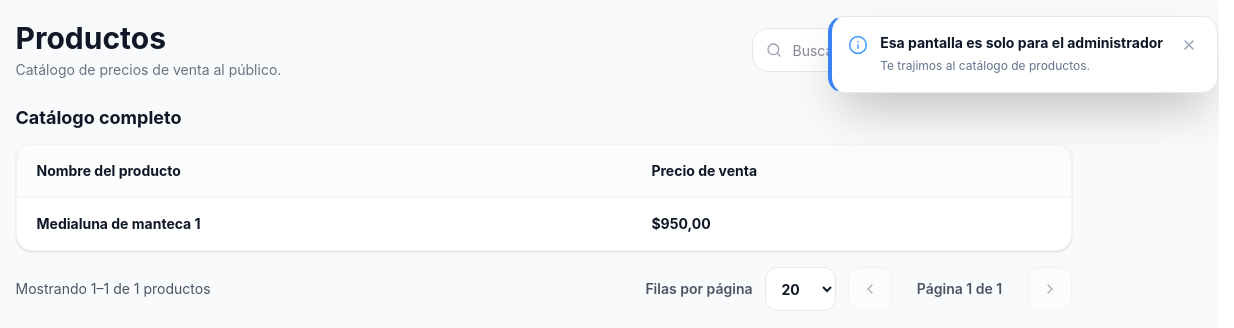
ProductsPage - aviso al colaborador redirigido (#364) › el aviso se puede cerrar con la X
Check: the text "Esa pantalla es solo para el administrador" is shown, box [880, 33, 1163, 52]
Click the button named "Cerrar notificación" at x=1189, y=45, box [1177, 33, 1201, 57]
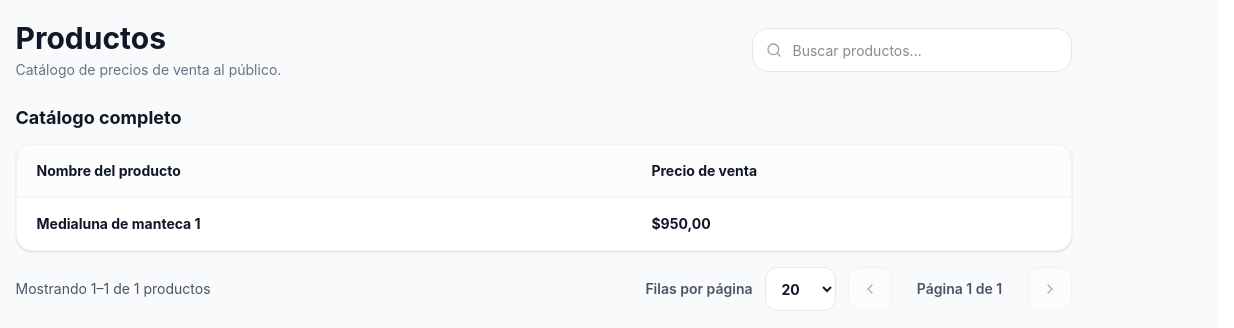
Check: the text "Esa pantalla es solo para el administrador" is gone
